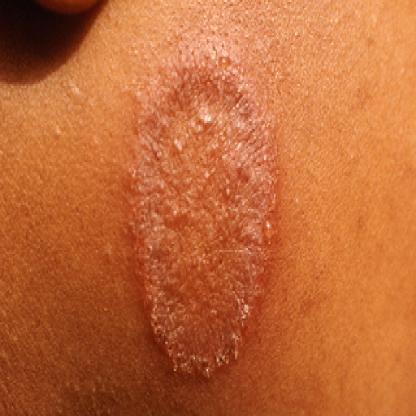Ringworm: (125, 22, 285, 409)
